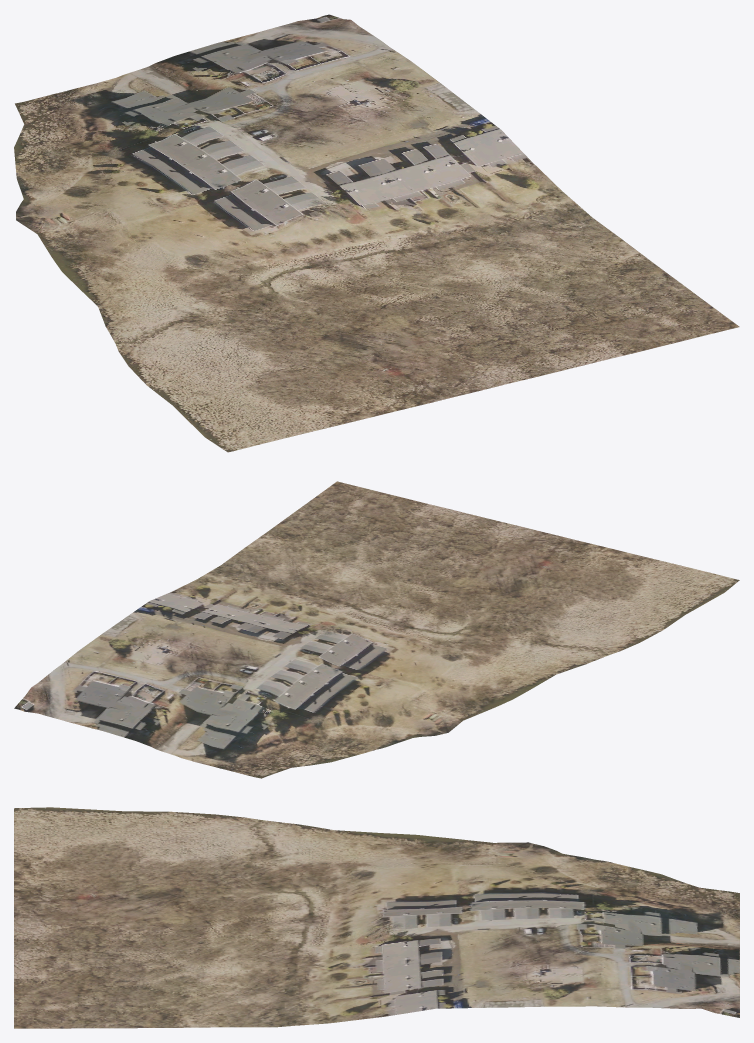
Rendered from CM_Terrain_24490254_6819384.fbx.
3 renders of one model, top to bottom at view 1: azimuth 30°, elevation 25°; view 2: azimuth 150°, elevation 25°; view 3: azimuth 270°, elevation 25°, orthographic. The views are drawn at different scales.
Parts seen in each view (by area): view 1: CM_Terrain_24490254_6819384_LOD0; view 2: CM_Terrain_24490254_6819384_LOD0; view 3: CM_Terrain_24490254_6819384_LOD0.
Boxes of the visible parts, x1,y1,x2,y2 form: CM_Terrain_24490254_6819384_LOD0: (14,14,739,452); CM_Terrain_24490254_6819384_LOD0: (14,481,739,778); CM_Terrain_24490254_6819384_LOD0: (14,807,739,1028).
Size of what is drawn, in the model's own units: 148 by 7.24 by 205.
